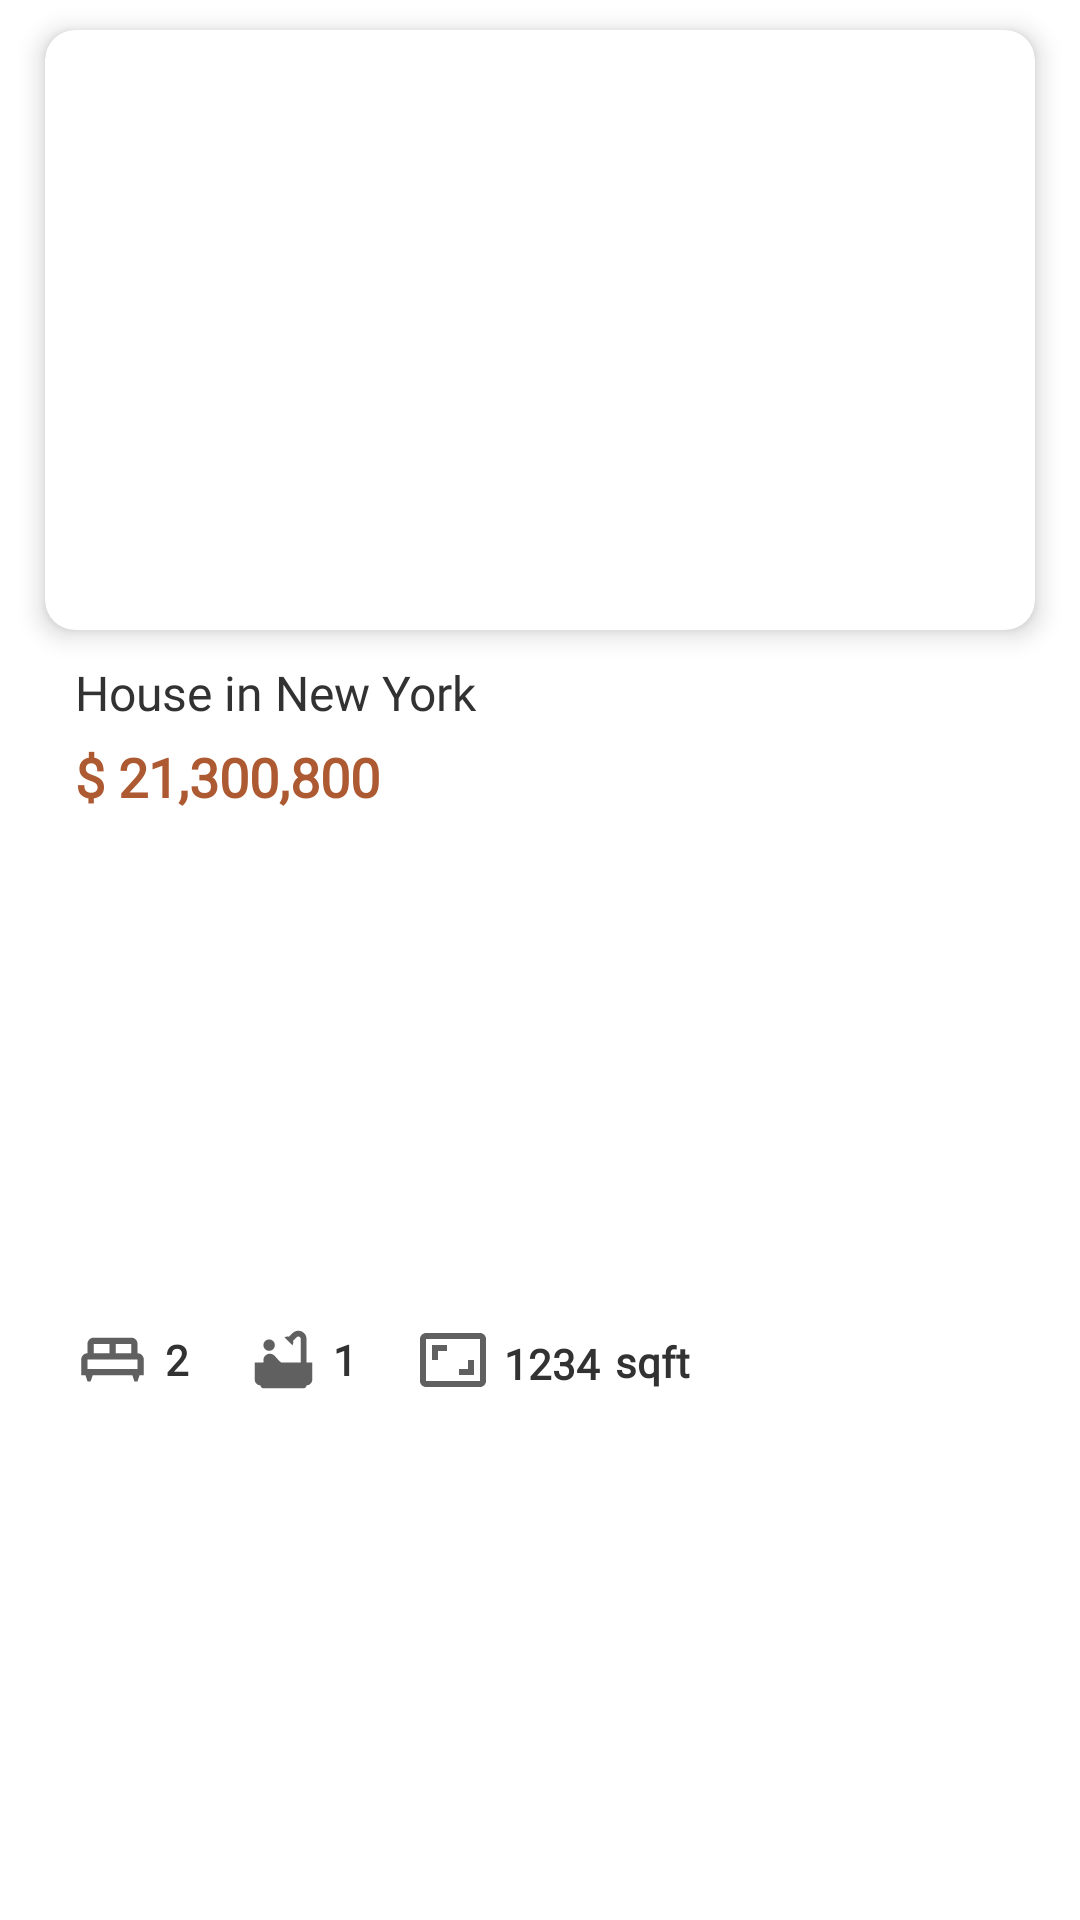

Named icons in this screenshot (1080px×1920px) and their centers, [x,y]:
bathtub: [283,1359]
king bed: [112,1359]
size: [453,1360]
